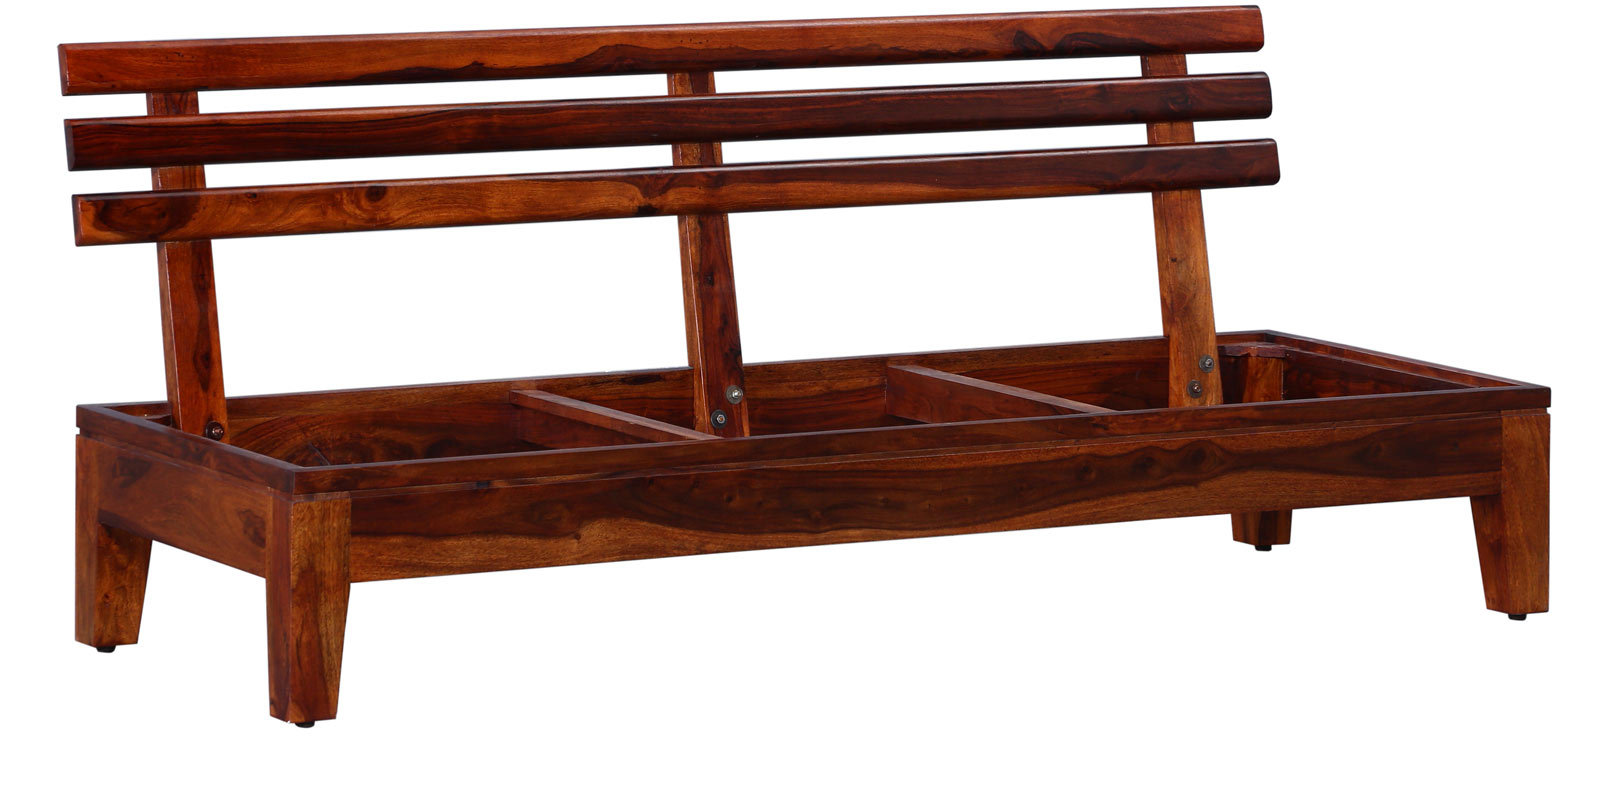Hayden Three Seater Sofa in Honey Oak Finish by Bohemiana: (29, 1, 1572, 732)
